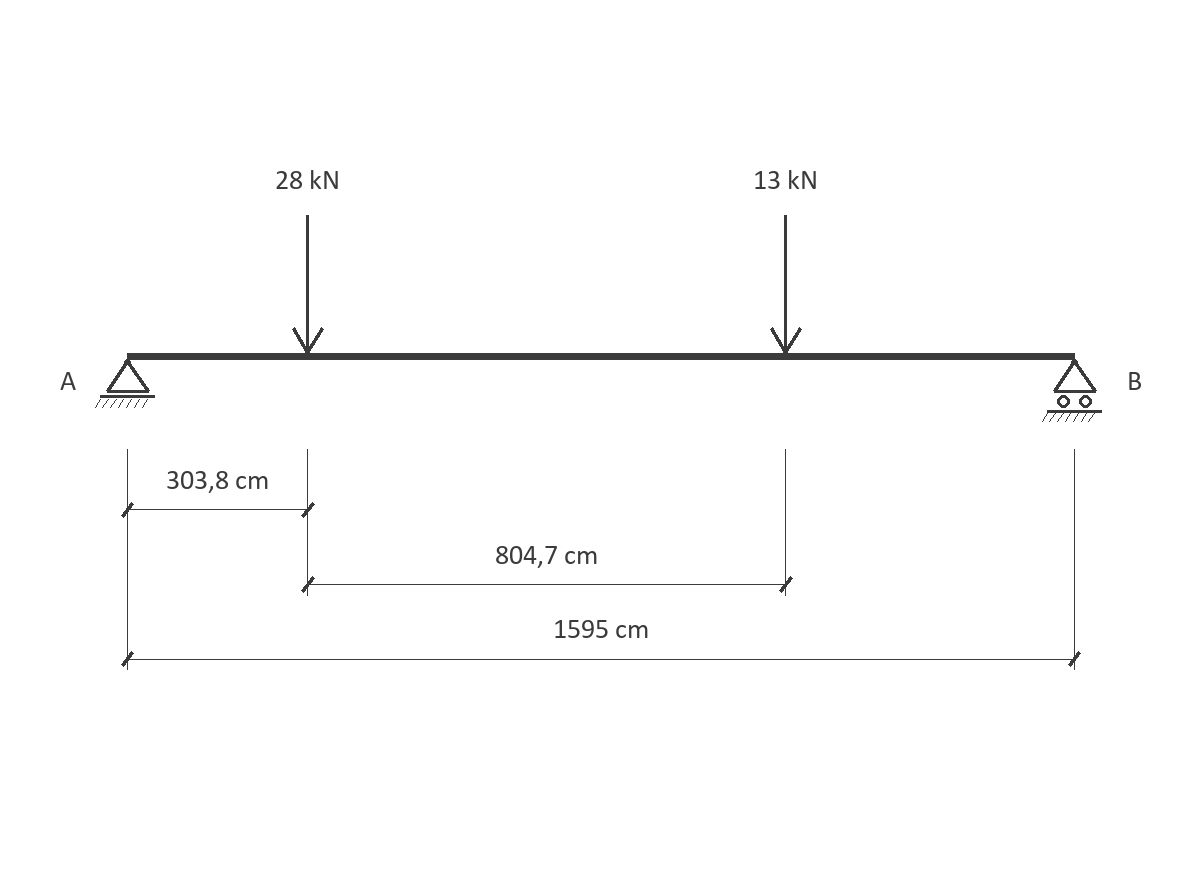pin_support: (95, 359, 155, 408)
point_load: (292, 215, 324, 354), (770, 215, 802, 354)
roller_support: (1042, 359, 1102, 422)
